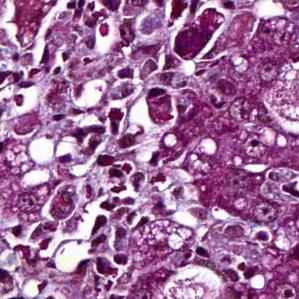ballooning: (159, 263, 237, 299)
